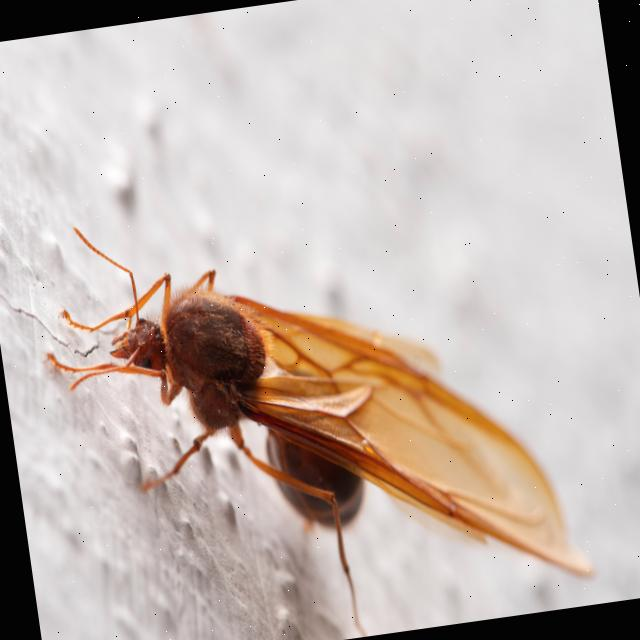Alive-Male-Alate: (25, 160, 599, 640)
